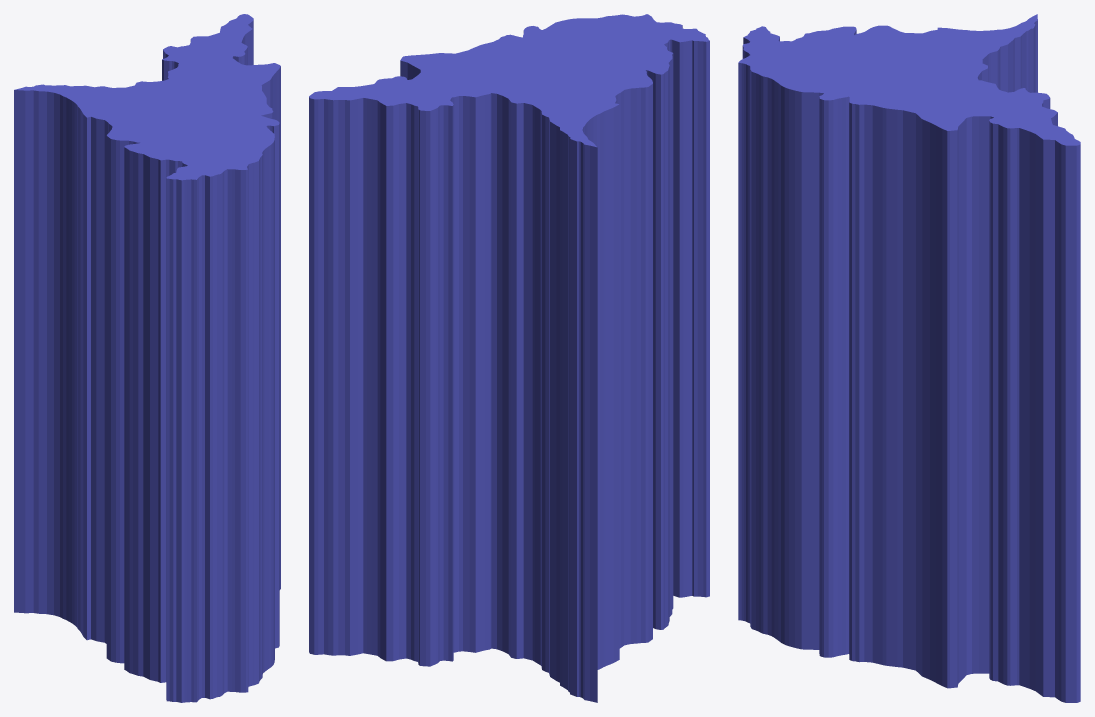
Rendered from FrozenLake2_000.dae.
The picture shows the model from 3 angles, left to right: view 1: azimuth 30°, elevation 25°; view 2: azimuth 150°, elevation 25°; view 3: azimuth 270°, elevation 25°; orthographic projection. The views are drawn at different scales.
Visible parts, largest first — view 1: Object; view 2: Object; view 3: Object.
Part boxes in pixels (left/top/right/bottom): Object: left=14, top=14, right=280, bottom=702; Object: left=309, top=14, right=709, bottom=702; Object: left=738, top=14, right=1080, bottom=702.
Size of the model in its own units: 3.86 by 4.24 by 7.61.
